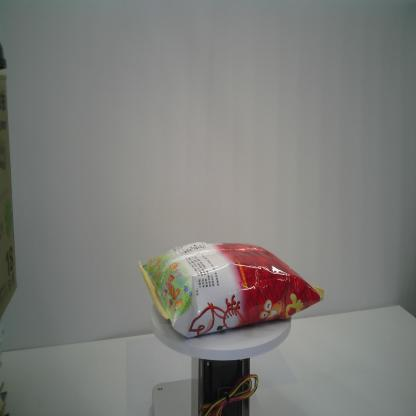Puffed Food: (138, 240, 326, 338)
